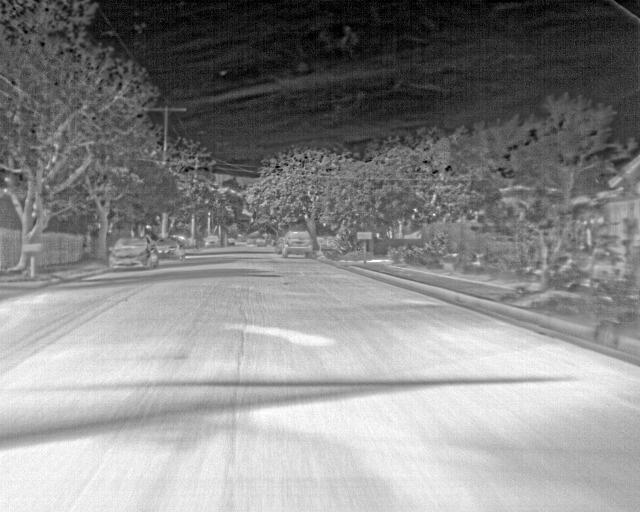car: (108, 234, 158, 271), (280, 228, 316, 260), (152, 235, 186, 262), (204, 235, 220, 250), (254, 236, 267, 248)
